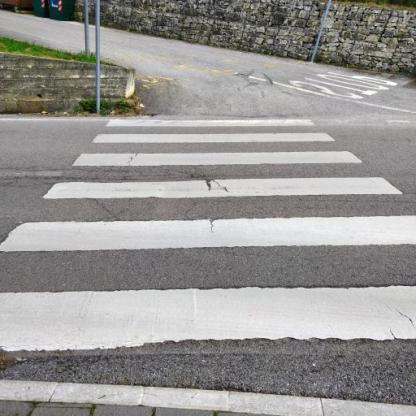crosswalk: (1, 216, 415, 362), (37, 146, 409, 210), (82, 116, 344, 142)
